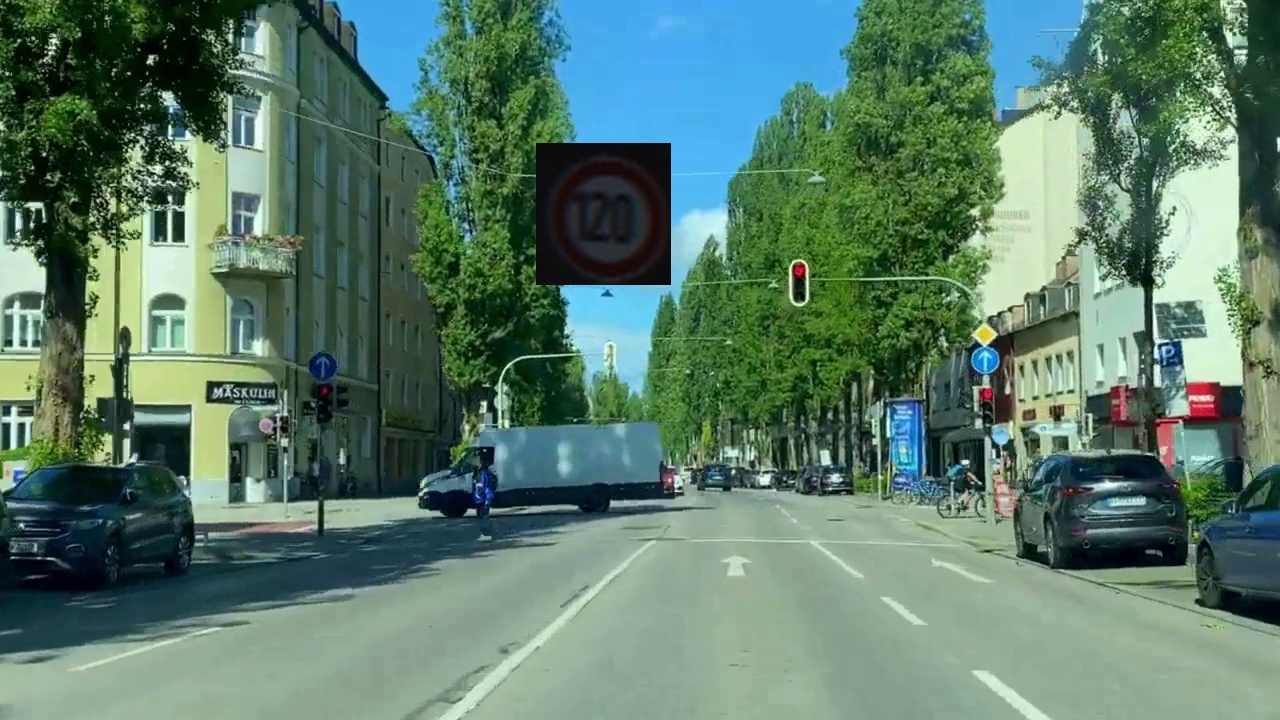Speed 120: (536, 143, 671, 285)
